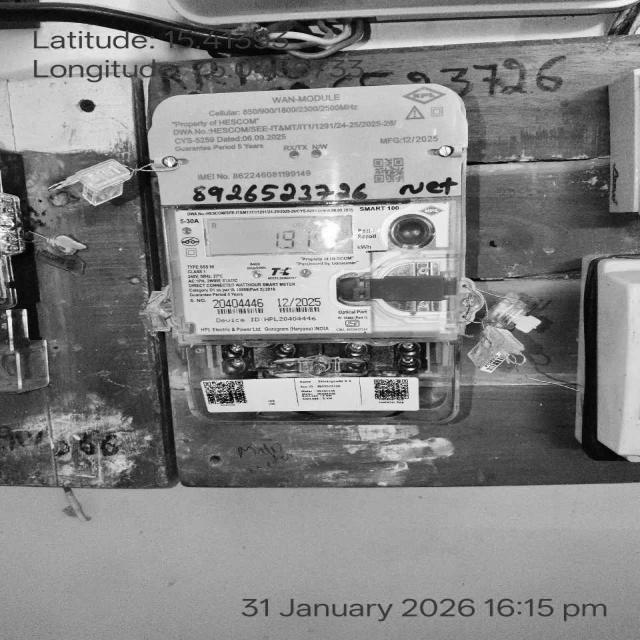meter: (147, 85, 470, 340)
